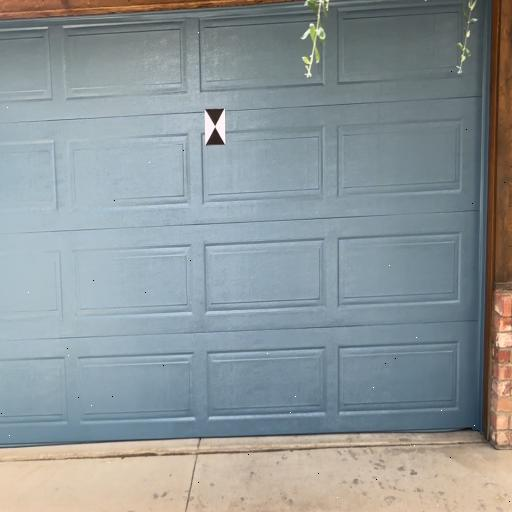target: (205, 110, 226, 145)
